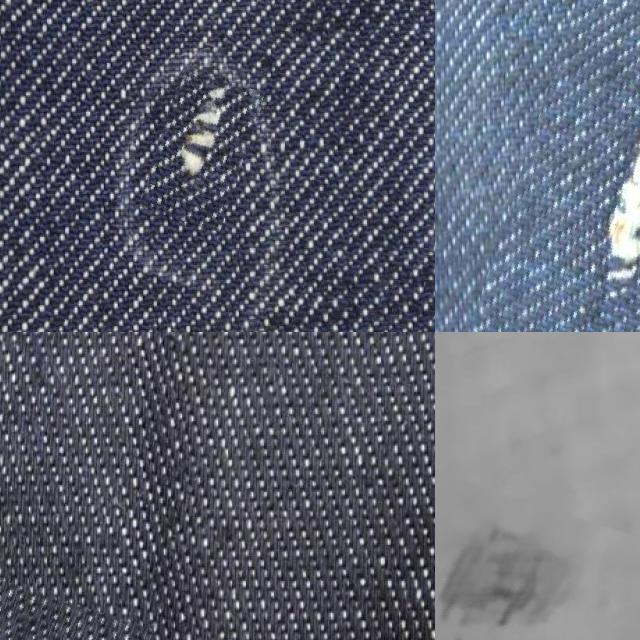Hole: (435, 490, 621, 640)
Thread_other: (494, 0, 640, 332), (148, 72, 254, 228), (0, 578, 143, 640)
